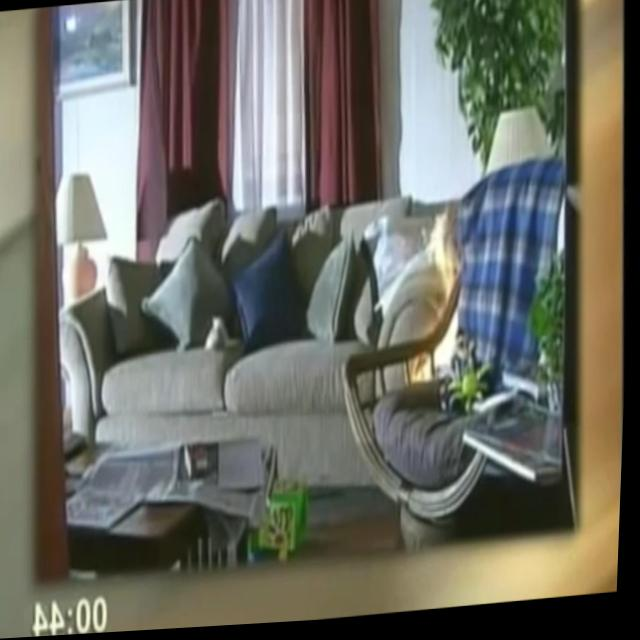fire: (402, 214, 466, 387)
